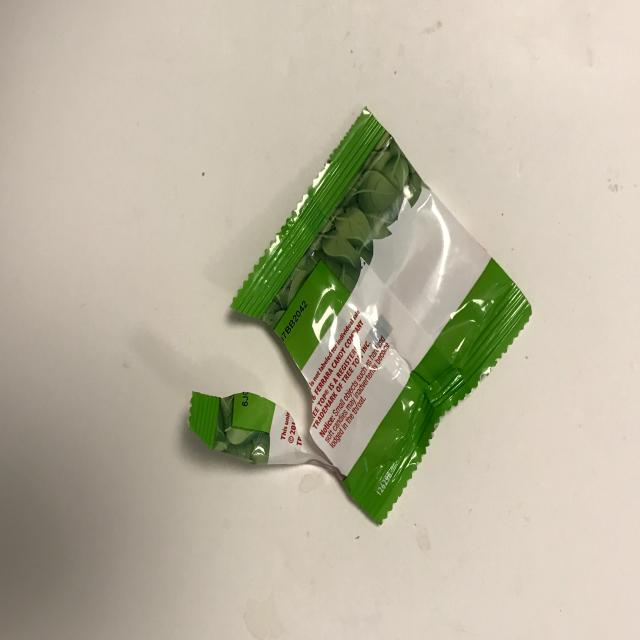trash: (188, 105, 533, 526)
